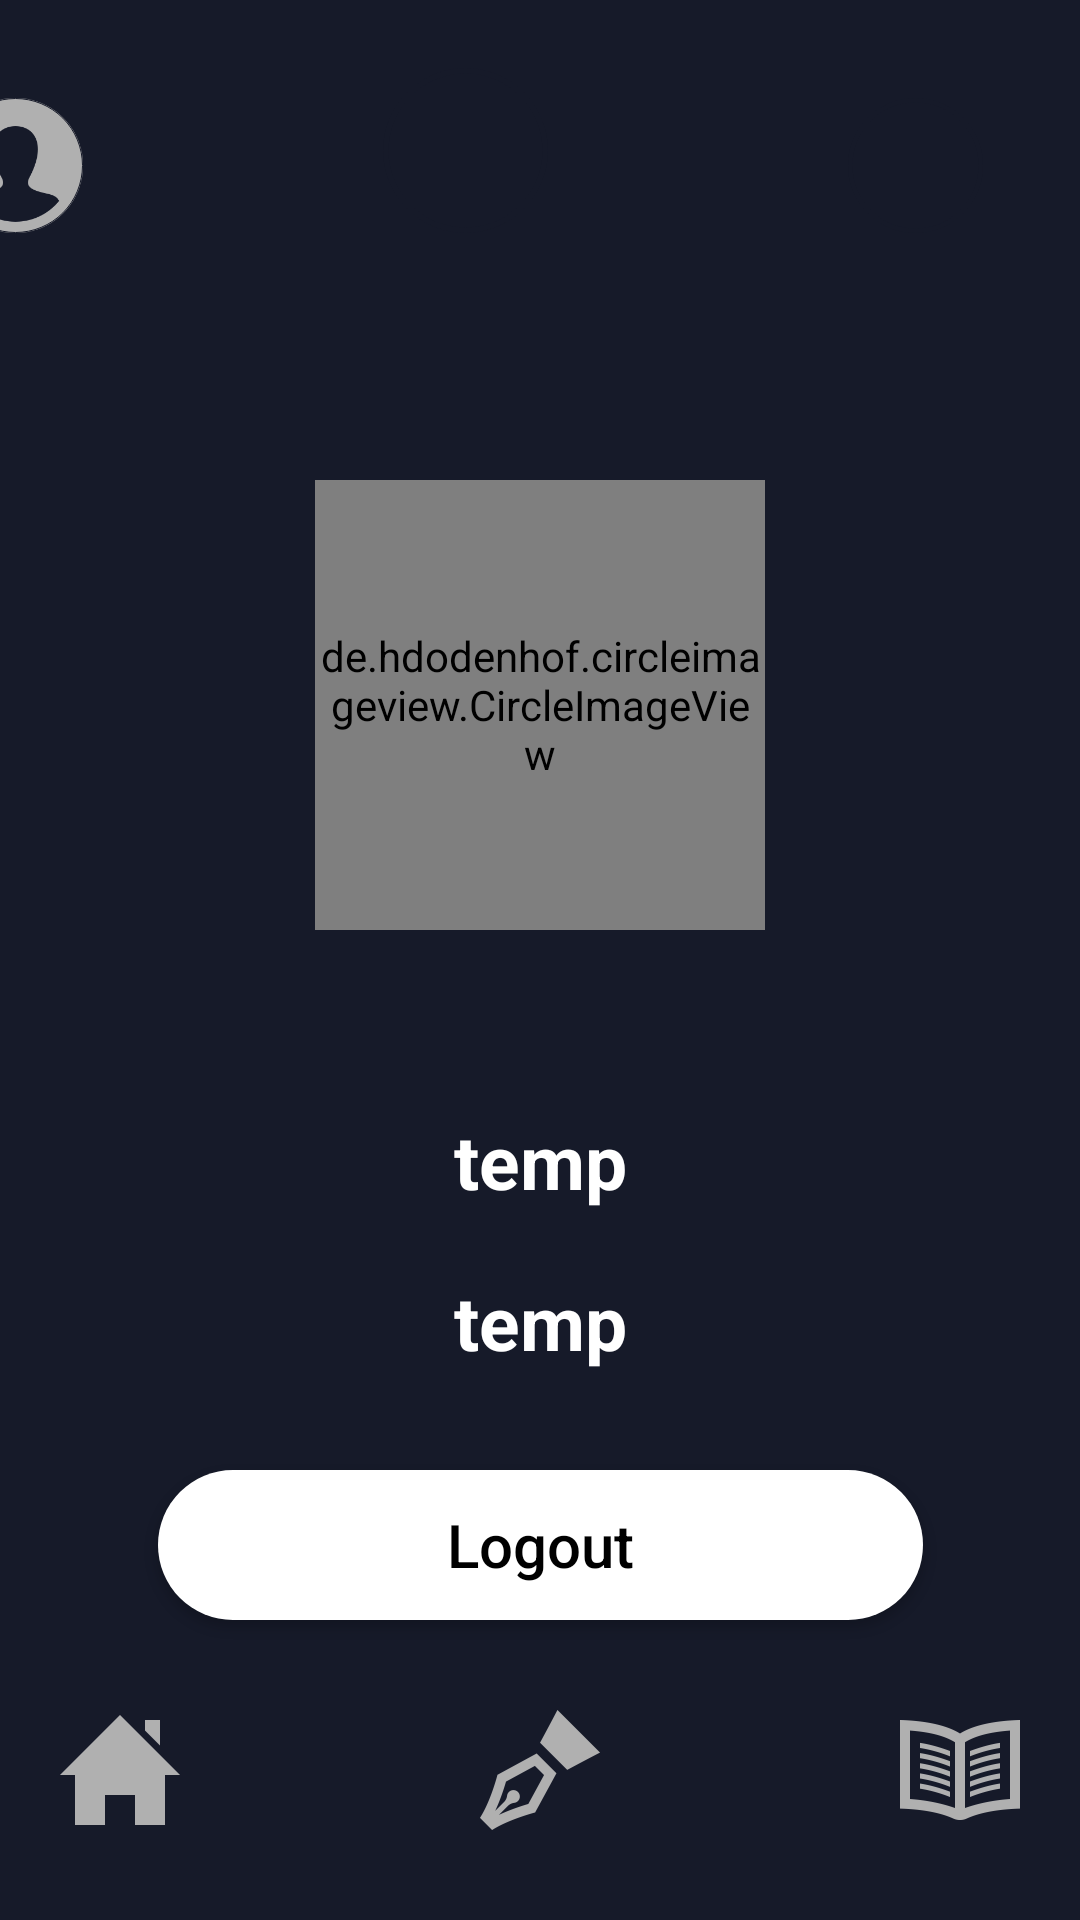

Locate icon controls on the screen. Image size 1080x1920, boxes as (x1, y1, x2, y2).
diary clicked: (900, 1720, 1020, 1820)
home clicked: (60, 1715, 180, 1825)
write clicked: (480, 1710, 600, 1830)
